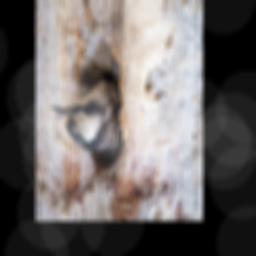Woodpecker: (51, 76, 121, 157)
